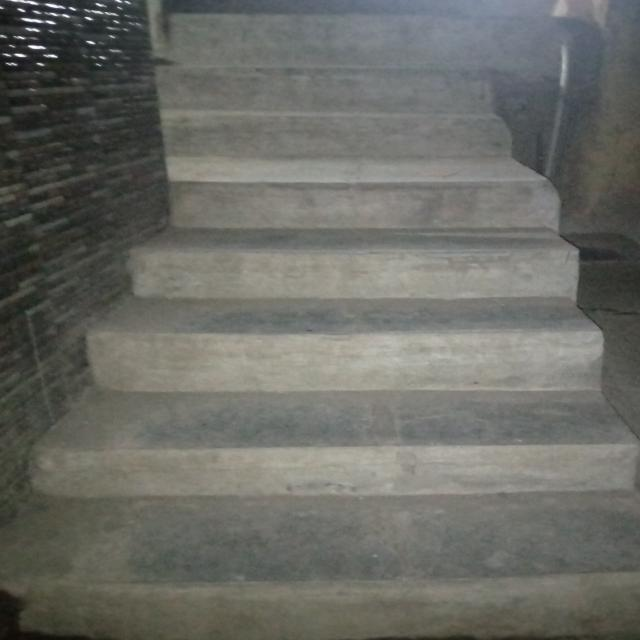Stairs: (6, 8, 638, 637)
